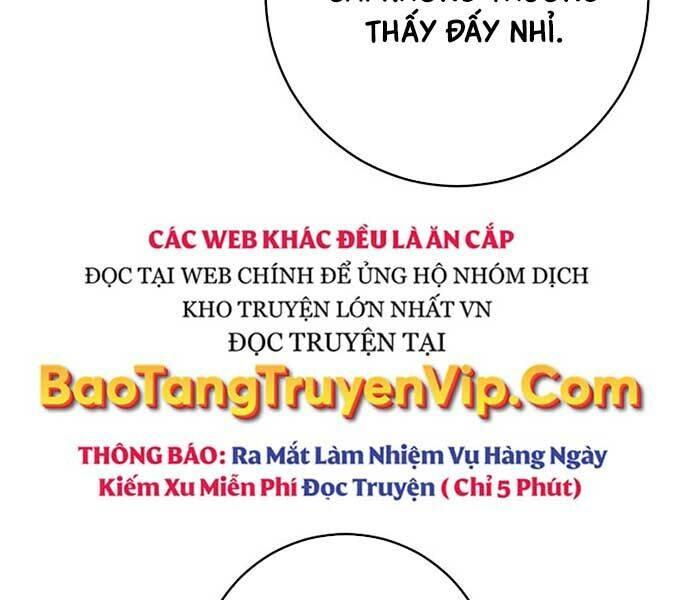quangcao: (38, 224, 648, 504)
